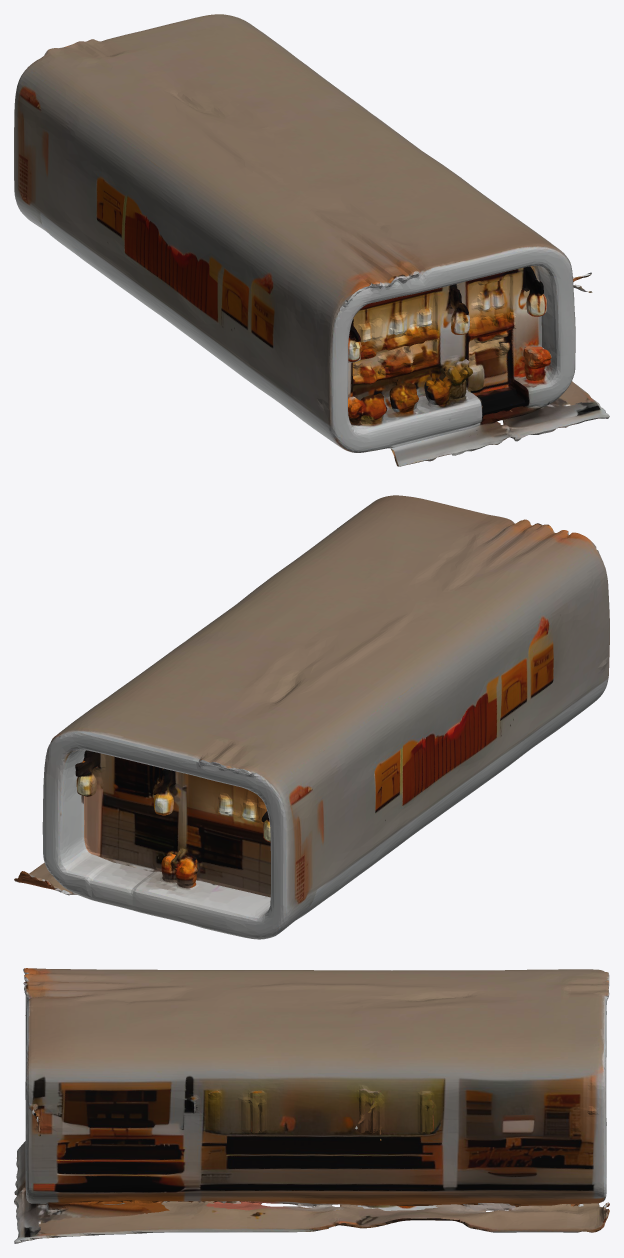
The model's file is Cozy Modern Shopfront.glb.
3 renders of one model, top to bottom at view 1: azimuth 30°, elevation 25°; view 2: azimuth 150°, elevation 25°; view 3: azimuth 270°, elevation 25°, orthographic. The views are drawn at different scales.
Visible parts, largest first — view 1: demo_textured.obj; view 2: demo_textured.obj; view 3: demo_textured.obj.
Part boxes in pixels (left/top/right/bottom): demo_textured.obj: left=14, top=14, right=609, bottom=466; demo_textured.obj: left=14, top=495, right=609, bottom=939; demo_textured.obj: left=14, top=968, right=609, bottom=1243.
Bounding box in the file's own units: 0.9582 × 0.6336 × 1.99.
Materials: 1 (1 with a texture image).
